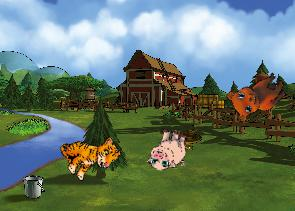bear: (221, 60, 291, 128)
pig: (145, 125, 191, 174)
tiger: (54, 120, 124, 187)
